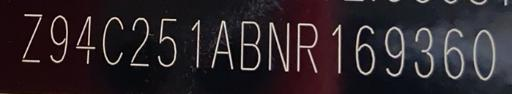letter: (294, 18, 324, 74), (206, 17, 236, 71), (264, 18, 292, 72), (441, 26, 467, 81), (471, 26, 497, 81), (156, 13, 182, 67), (237, 18, 263, 72), (353, 22, 379, 76), (18, 11, 44, 64), (126, 15, 152, 67), (382, 24, 408, 76), (74, 12, 98, 64), (47, 12, 71, 64), (412, 25, 436, 77), (102, 15, 124, 67), (326, 22, 346, 74), (186, 17, 204, 68)
